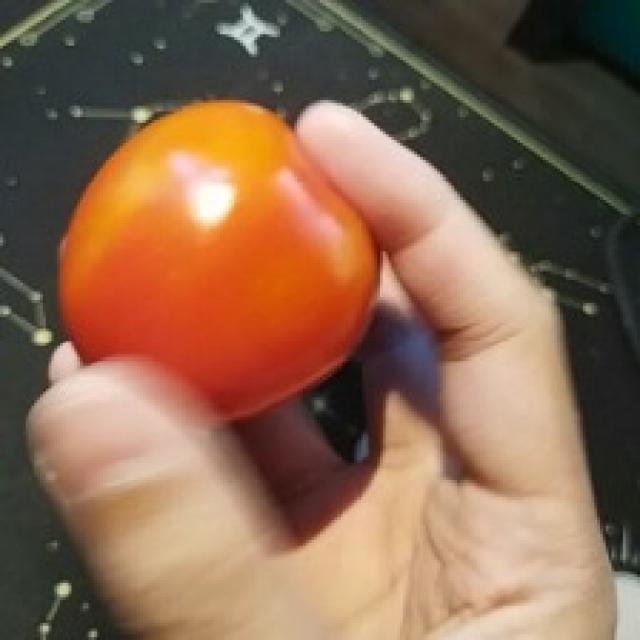tomato: (57, 101, 383, 424)
